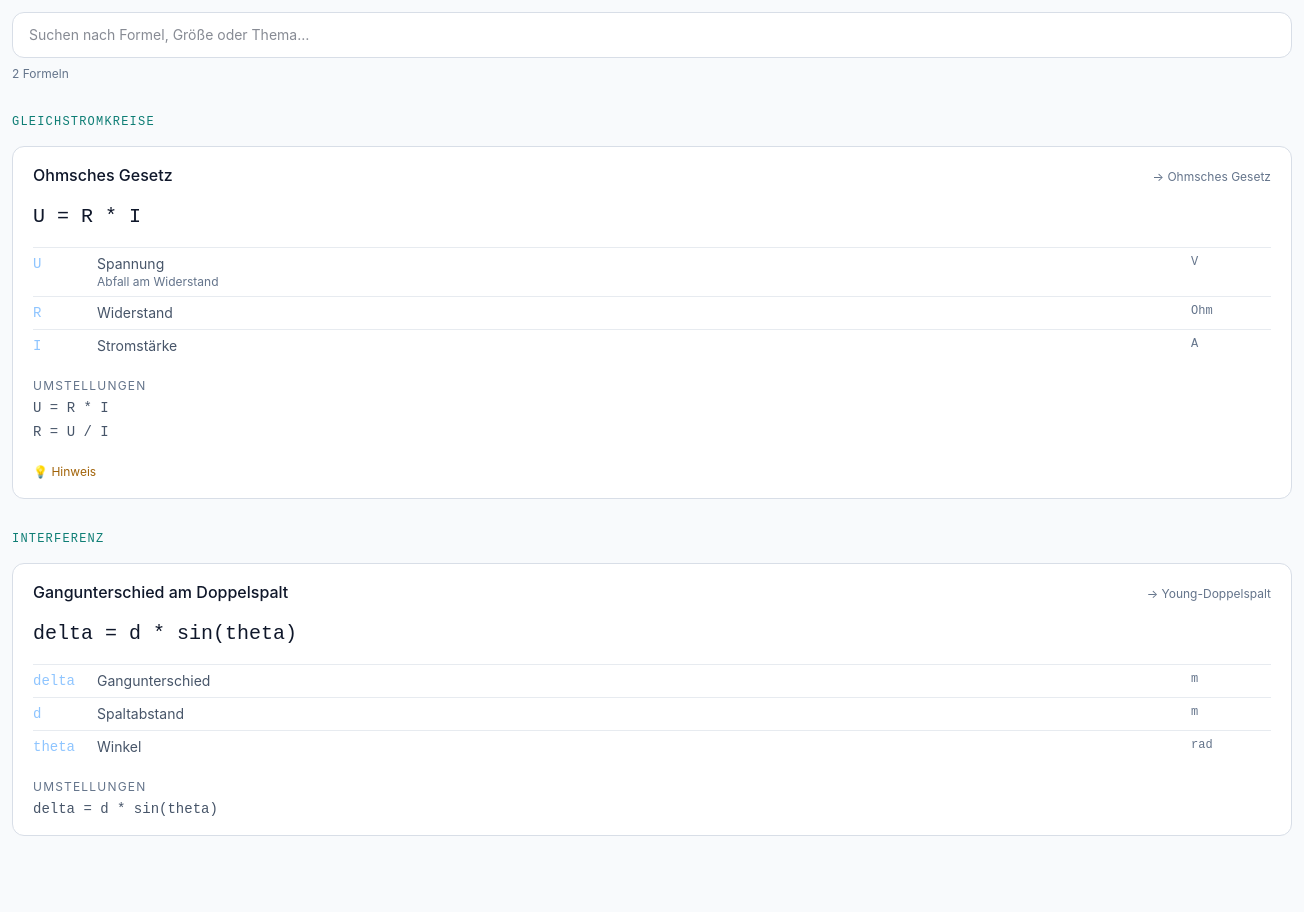
Test: Formelliste › zeigt Hinweise erst auf Verlangen
Check: the text "ohmsche Widerstände" is not shown
Click the button "💡 Hinweis".
click(65, 472)  # box [33,464,96,480]
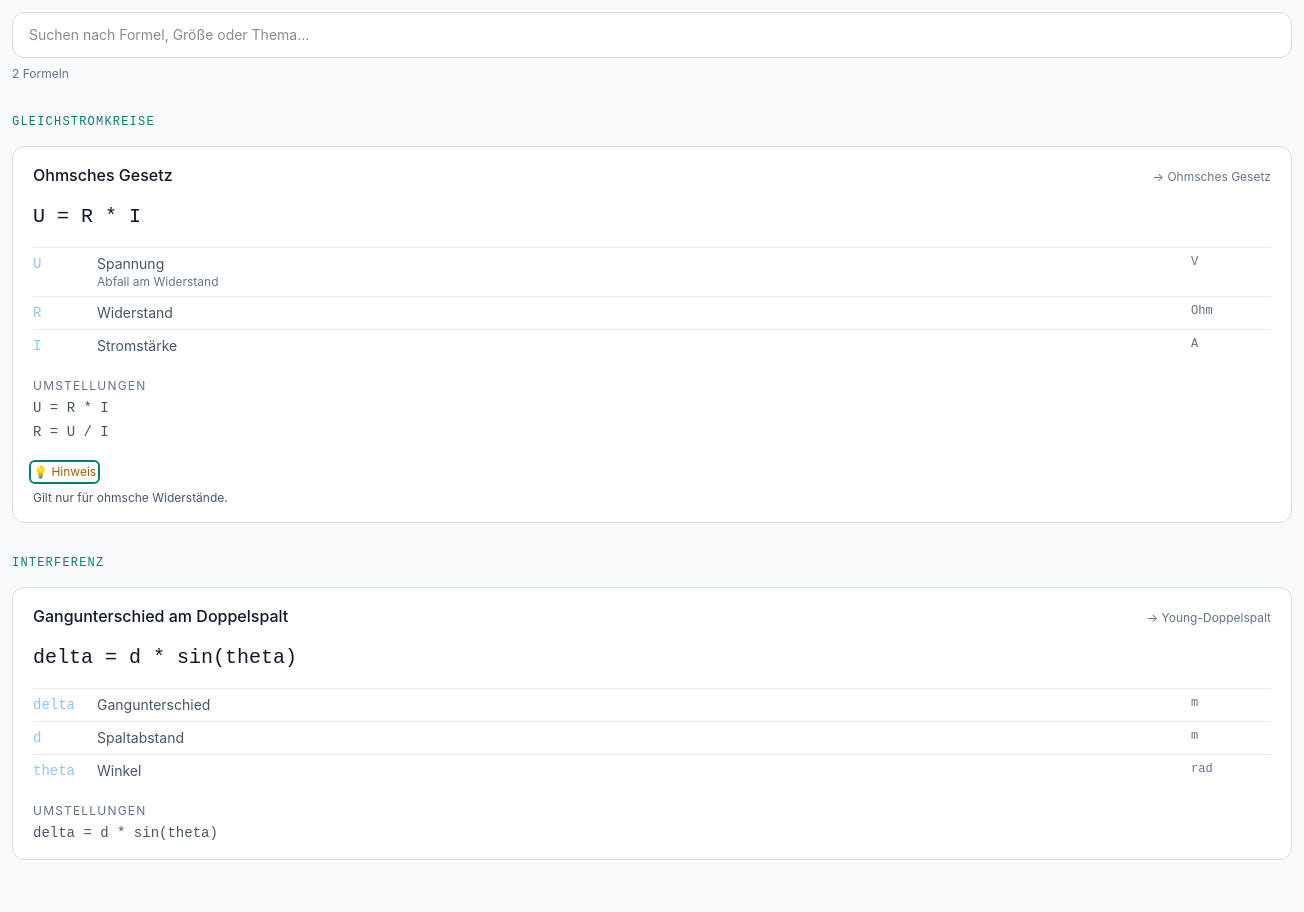
Check: the list item "Gilt nur für ohmsche Widerstände." is shown, box [33,490,228,505]
